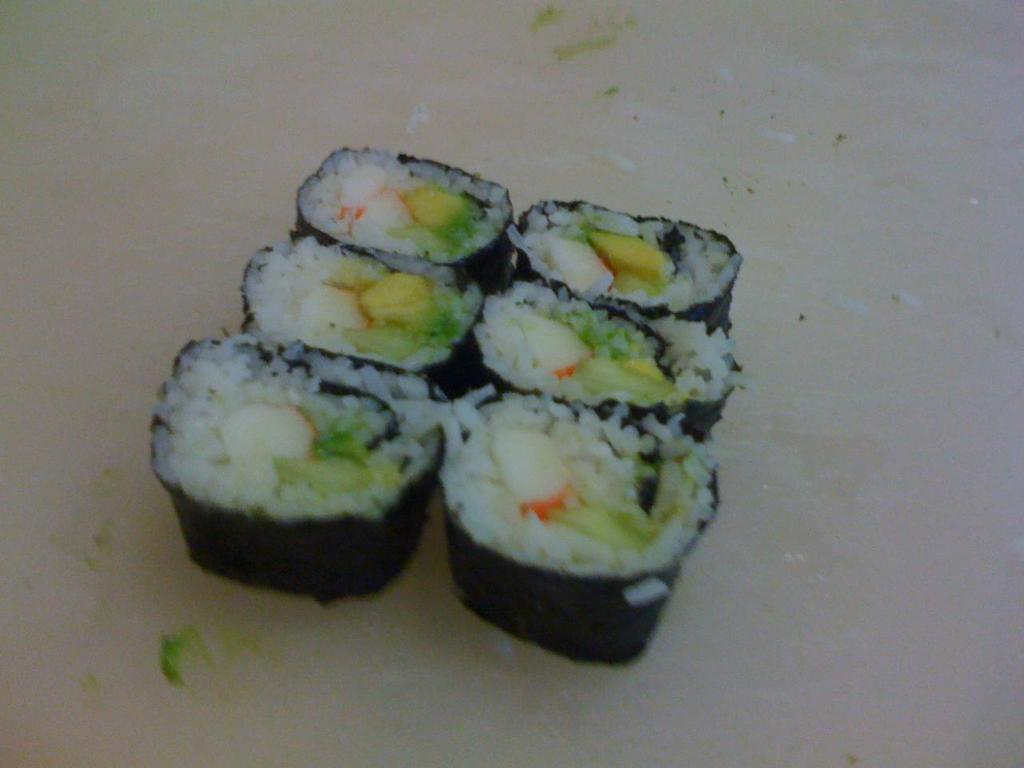sushi: (149, 142, 741, 664), (288, 146, 516, 295)
